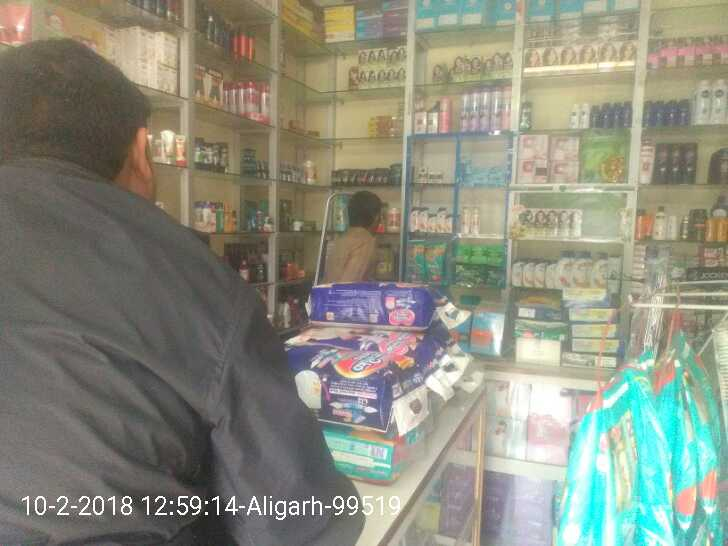venus: (490, 167, 506, 183), (459, 159, 470, 182), (474, 168, 490, 183)
